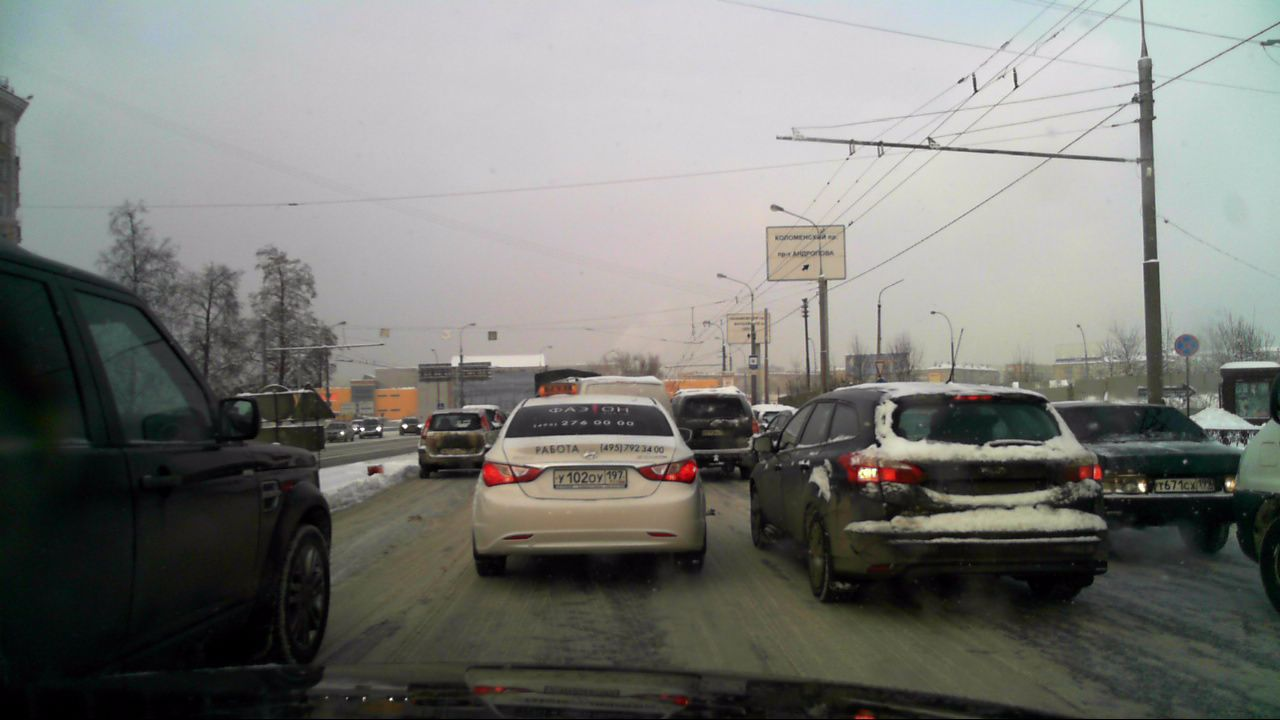No Parking: (1172, 329, 1201, 362)
